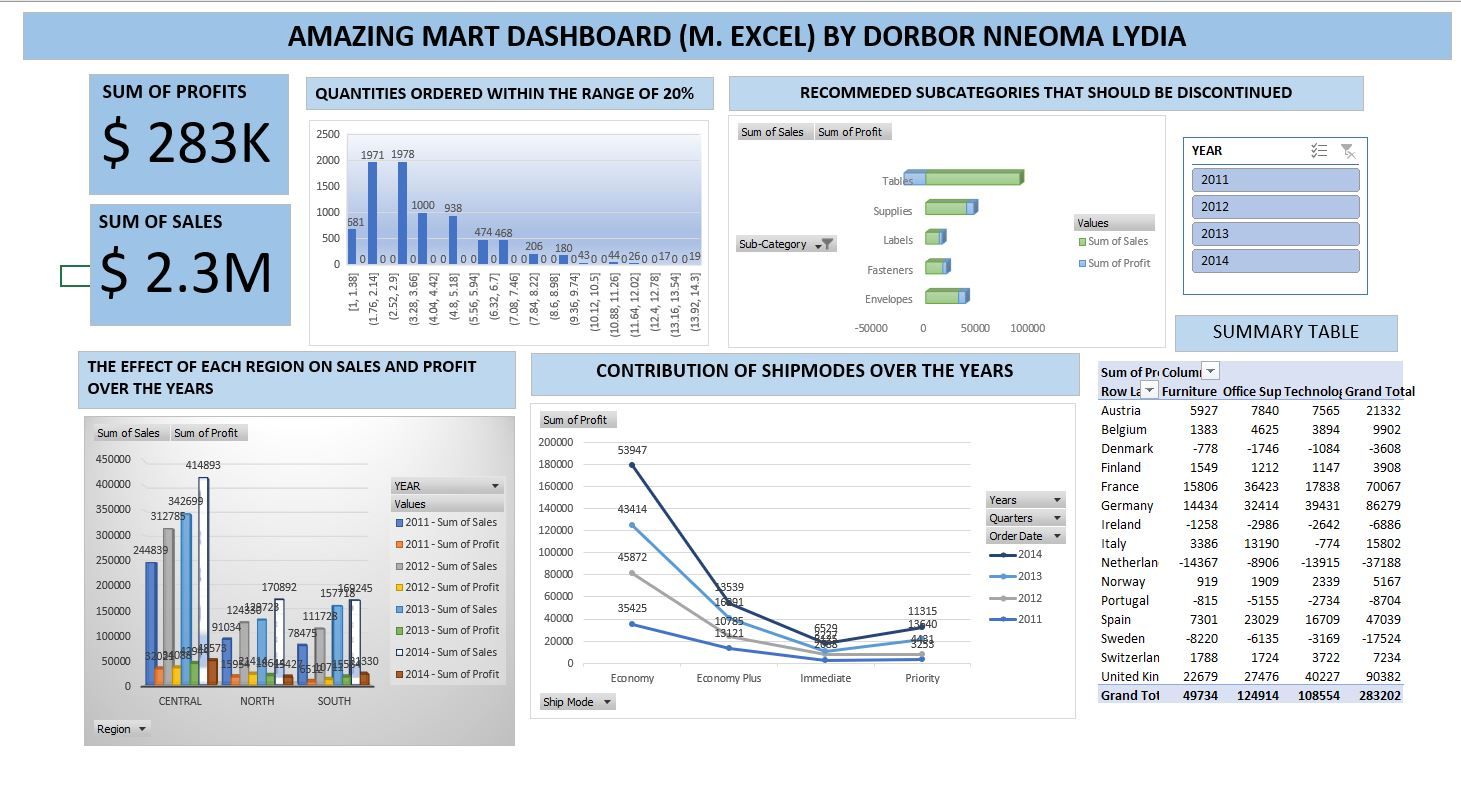

This screenshot's page, from the dashboard's own definition file:
{"tool":"powerbi","page":{"name":"DASHBOARD","canvas":[1280,720],"ordinal":5},"visuals":[{"type":"textbox","box":[0,0,1269.1,720],"z":0},{"type":"decompositionTreeVisual","fields":{"Analyze":["DAX MEASURES.Total Profit"],"ExplainBy":["ListOfOrders.Ship Mode"]},"box":[472.1,427.5,416.4,275],"z":1000},{"type":"pivotTable","fields":{"Rows":["ListOfOrders.Country"],"Columns":["OrderBreakdown.Category"],"Values":["DAX MEASURES.Total Profit"]},"box":[9.5,427.5,443.4,275],"z":2000},{"type":"barChart","fields":{"Category":["OrderBreakdown.Sub-Category"],"Y":["Sum(OrderBreakdown.Profit)","Sum(OrderBreakdown.Sales)"]},"box":[789.9,136.7,475.2,224.1],"z":3000},{"type":"columnChart","fields":{"Category":["ListOfOrders.Region"],"Y":["Sum(OrderBreakdown.Sales)","Sum(OrderBreakdown.Profit)"]},"box":[472.1,136.7,287.7,224.1],"z":4000},{"type":"Histogram1445664487616","fields":{"Values":["OrderBreakdown.Quantity"],"Frequency":["DAX MEASURES.Quantities within 20% range"]},"box":[186,136.7,267,224.1],"z":5000},{"type":"card","fields":{"Values":["Sum(OrderBreakdown.Sales)"]},"box":[22.3,243.2,149.4,117.6],"z":6000},{"type":"card","fields":{"Values":["Sum(OrderBreakdown.Profit)"]},"box":[22.3,111.3,147.8,117.6],"z":7000},{"type":"textbox","box":[22.3,23.8,1242.9,49.3],"z":8000},{"type":"textbox","box":[9.5,387.8,443.4,39.7],"z":9000},{"type":"textbox","box":[471.7,388.5,744.8,39.4],"z":10000},{"type":"slicer","fields":{"Values":["Calendar.Year"]},"box":[926.6,464.1,267,203.4],"z":11000},{"type":"textbox","box":[472.1,111.3,287.7,58.8],"z":12000},{"type":"textbox","box":[186,111.3,267,58.8],"z":13000},{"type":"textbox","box":[790.1,111,474.6,58.4],"z":14000}]}

Visuals, with their boxes in screenshot pixels (x1, y1, x2, y2), scaled from the page's 1280x720 canvas onto the 1461x808 screenshot:
textbox: Rect(0, 0, 1449, 807)
decompositionTreeVisual - DAX MEASURES.Total Profit x ListOfOrders.Ship Mode: Rect(539, 480, 1014, 788)
pivotTable - ListOfOrders.Country x OrderBreakdown.Category: Rect(11, 480, 517, 788)
barChart - OrderBreakdown.Sub-Category x Sum(OrderBreakdown.Profit): Rect(902, 153, 1444, 405)
columnChart - ListOfOrders.Region x Sum(OrderBreakdown.Sales): Rect(539, 153, 867, 405)
Histogram1445664487616 - OrderBreakdown.Quantity x DAX MEASURES.Quantities within 20% range: Rect(212, 153, 517, 405)
card - Sum(OrderBreakdown.Sales): Rect(25, 273, 196, 405)
card - Sum(OrderBreakdown.Profit): Rect(25, 125, 194, 257)
textbox: Rect(25, 27, 1444, 82)
textbox: Rect(11, 435, 517, 480)
textbox: Rect(538, 436, 1389, 480)
slicer - Calendar.Year: Rect(1058, 521, 1362, 749)
textbox: Rect(539, 125, 867, 191)
textbox: Rect(212, 125, 517, 191)
textbox: Rect(902, 125, 1444, 190)
